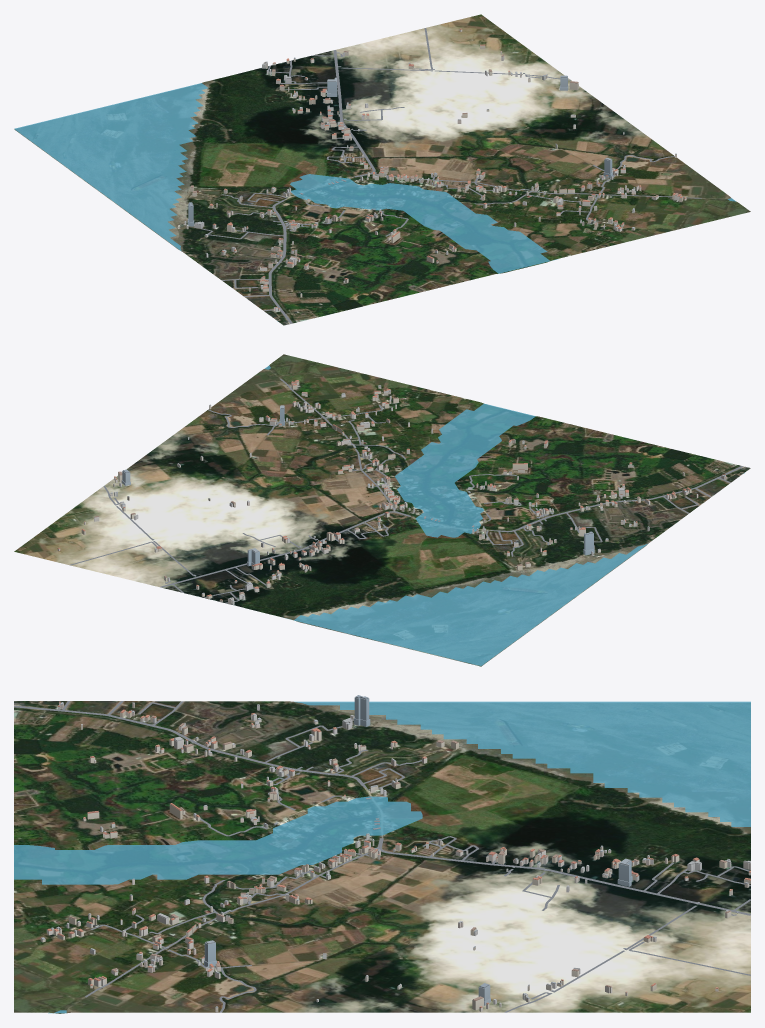
3 renders of one model, top to bottom at view 1: azimuth 30°, elevation 25°; view 2: azimuth 150°, elevation 25°; view 3: azimuth 270°, elevation 25°, orthographic. The views are drawn at different scales.
Visible parts, largest first — view 1: TERRAIN, WATER, ROAD_METRO, BLDG_SHOPHOUSE_VILLA, BLDG_TUBE_HOUSE, BLDG_MODERN_TOWER; view 2: TERRAIN, WATER, ROAD_METRO, BLDG_SHOPHOUSE_VILLA, BLDG_TUBE_HOUSE, BLDG_MODERN_TOWER; view 3: TERRAIN, WATER, ROAD_METRO, BLDG_SHOPHOUSE_VILLA, BLDG_TUBE_HOUSE, BLDG_MODERN_TOWER.
Boxes of the visible parts, x1=… form: TERRAIN: x1=14, y1=14, x2=750, y2=325; WATER: x1=14, y1=83, x2=735, y2=321; ROAD_METRO: x1=201, y1=28, x2=701, y2=323; BLDG_SHOPHOUSE_VILLA: x1=190, y1=44, x2=682, y2=291; BLDG_TUBE_HOUSE: x1=184, y1=28, x2=686, y2=311; BLDG_MODERN_TOWER: x1=187, y1=75, x2=612, y2=226; TERRAIN: x1=14, y1=354, x2=750, y2=666; WATER: x1=264, y1=365, x2=744, y2=665; ROAD_METRO: x1=70, y1=379, x2=743, y2=603; BLDG_SHOPHOUSE_VILLA: x1=81, y1=380, x2=691, y2=599; BLDG_TUBE_HOUSE: x1=57, y1=381, x2=727, y2=604; BLDG_MODERN_TOWER: x1=121, y1=405, x2=594, y2=566; TERRAIN: x1=14, y1=701, x2=750, y2=1013; WATER: x1=14, y1=701, x2=750, y2=1013; ROAD_METRO: x1=14, y1=701, x2=750, y2=1012; BLDG_SHOPHOUSE_VILLA: x1=46, y1=709, x2=750, y2=1010; BLDG_TUBE_HOUSE: x1=40, y1=701, x2=750, y2=1012; BLDG_MODERN_TOWER: x1=204, y1=695, x2=632, y2=1005.
Size of the model in its own units: 2000 by 85.85 by 2000.
7 materials, 1 textured.
